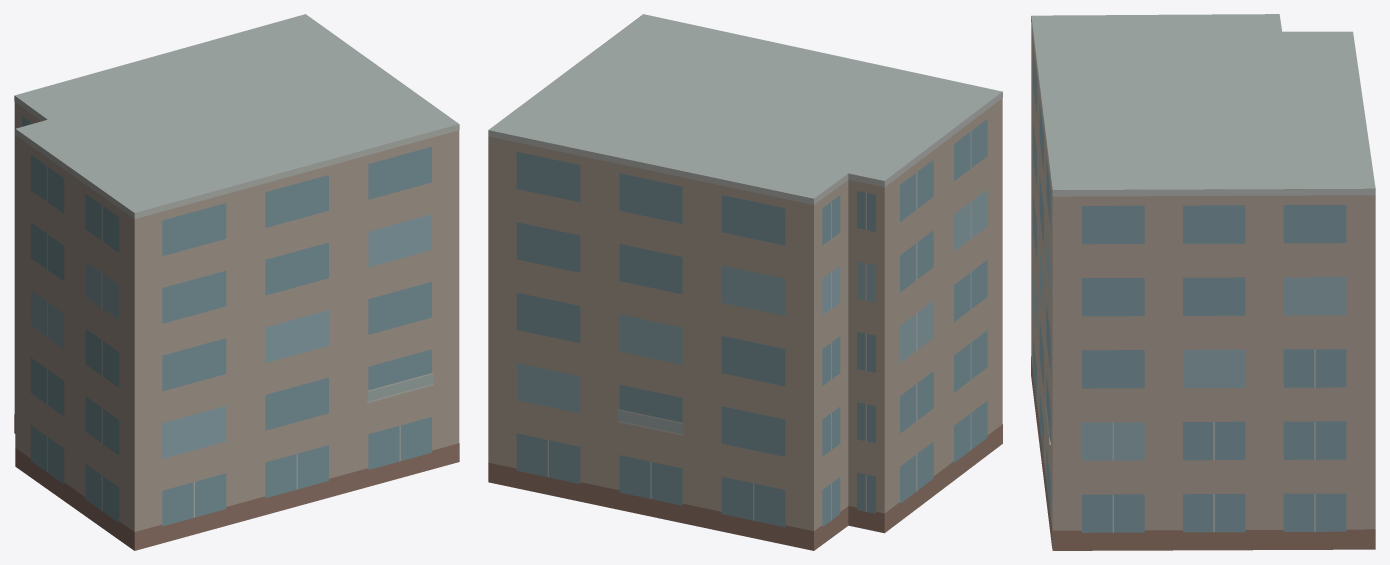
The model's file is survey-upis-33001772.glb.
3 renders of one model, left to right at view 1: azimuth 30°, elevation 25°; view 2: azimuth 150°, elevation 25°; view 3: azimuth 270°, elevation 25°, orthographic. The views are drawn at different scales.
Visible parts, largest first — view 1: survey-upis-33001772.tmp; view 2: survey-upis-33001772.tmp; view 3: survey-upis-33001772.tmp.
Boxes of the visible parts, <box> form: survey-upis-33001772.tmp: <box>14,14,459,550</box>; survey-upis-33001772.tmp: <box>488,14,1002,550</box>; survey-upis-33001772.tmp: <box>1031,14,1375,550</box>.
Bounding box in the file's own units: 14.24 × 13.6 × 11.78.
